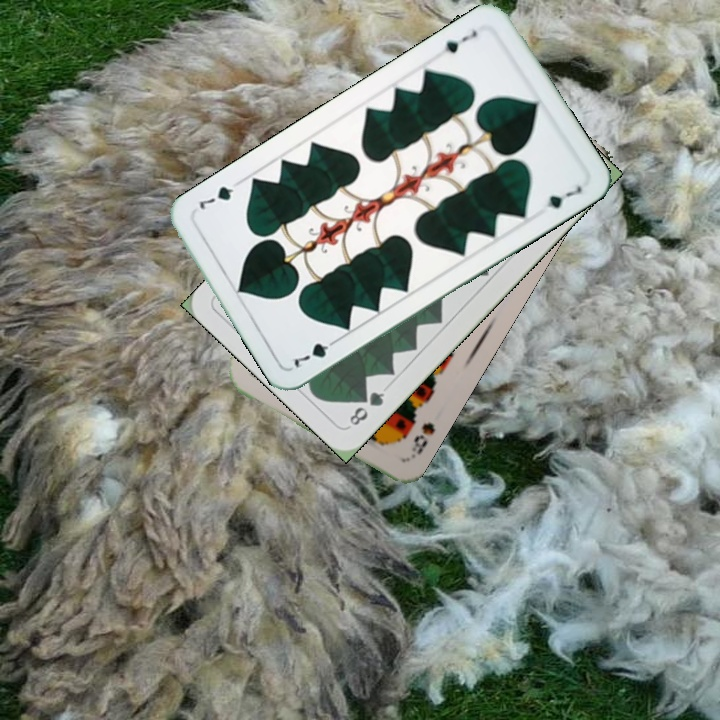G7: (289, 333, 342, 371), (440, 25, 480, 56)
G8: (345, 387, 388, 429)
S8: (396, 418, 438, 464)
